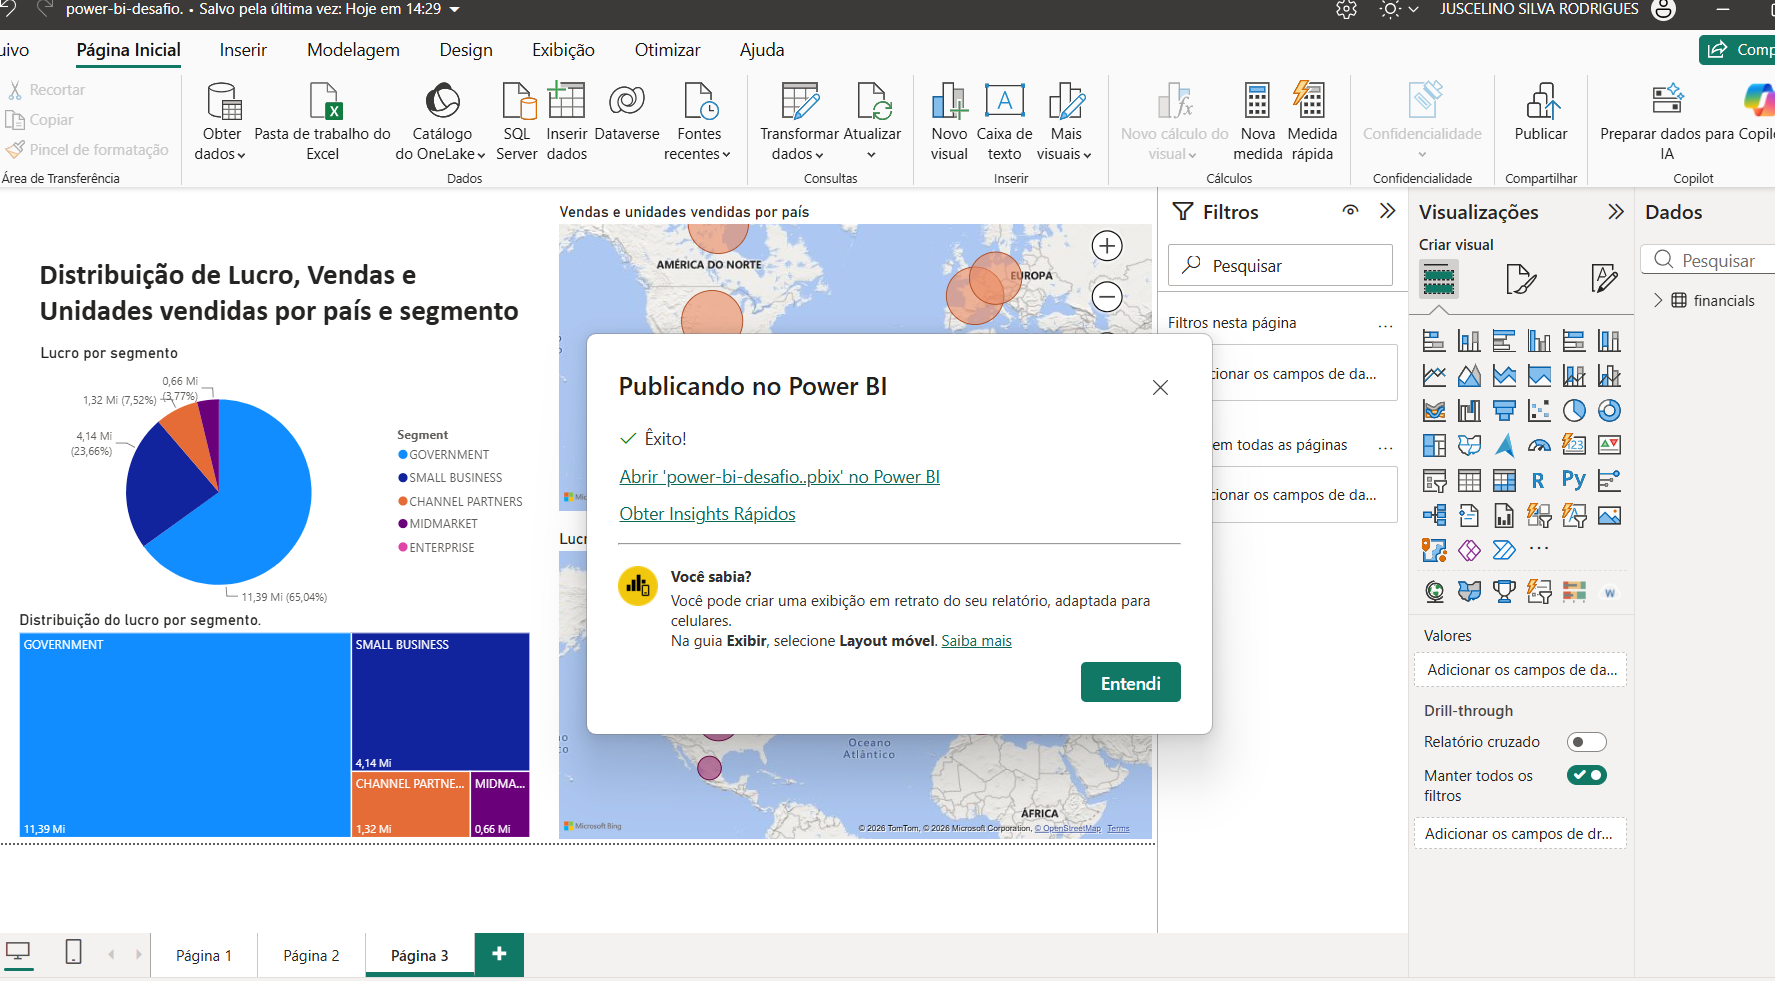

What the dashboard file says about the page in this screenshot:
{"tool":"powerbi","page":{"name":"Página 3","canvas":[1280,720],"ordinal":2},"visuals":[{"type":"pieChart","title":"Lucro por segmento","fields":{"Category":["financials.Segment"],"Y":["Sum(financials.Profit)"]},"box":[48.9,171.1,548.9,308],"z":0},{"type":"map","title":"Vendas e unidades vendidas por país","fields":{"Category":["financials.Country"],"Size":["Sum(financials. Sales)"]},"box":[618.7,16.5,661.3,343.7],"z":1000},{"type":"map","title":"Lucro por país","fields":{"Category":["financials.Country"],"Size":["Sum(financials.Profit)"]},"box":[618.7,375.3,661.3,345.1],"z":2000},{"type":"textbox","box":[48.1,71.5,548.6,100.4],"z":3000},{"type":"treemap","title":"Distribuição do lucro por segmento.","fields":{"Group":["financials.Segment"],"Values":["Sum(financials.Profit)"]},"box":[25.7,465.7,570.9,254.3],"z":4000}]}

Visuals, with their boxes on the page's 1280x720 design canvas (x1, y1, x2, y2). These are canvas units, not pixel positions in the 1775x981 screenshot, which may show the page scaled, cropped or inside an application window:
"Lucro por segmento" pieChart: 49:171:598:479
"Vendas e unidades vendidas por país" map: 619:16:1280:360
"Lucro por país" map: 619:375:1280:720
textbox: 48:72:597:172
"Distribuição do lucro por segmento." treemap: 26:466:597:720
